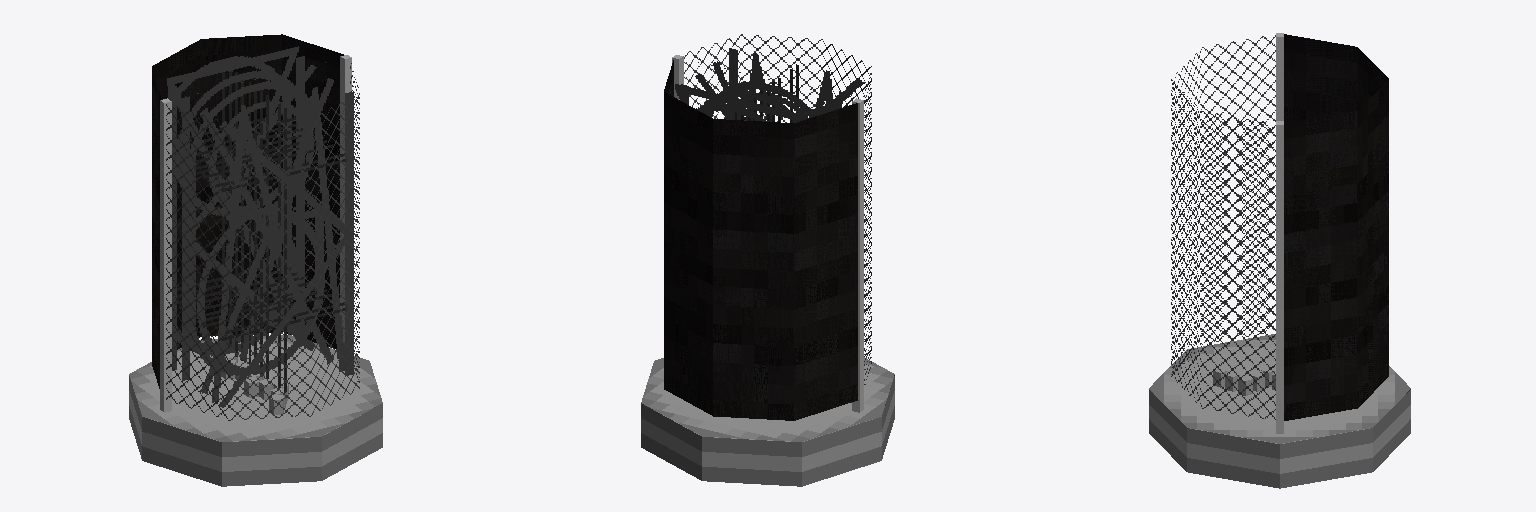
3 renders of one model, left to right at view 1: azimuth 30°, elevation 25°; view 2: azimuth 150°, elevation 25°; view 3: azimuth 270°, elevation 25°, orthographic.
Parts seen in each view (by area): view 1: Cylinder002, Front, Back, Back001, Plane010, Plane011, Plane014, Plane004, Plane013, Box002, Plane007, Plane005 (+4 smaller); view 2: Back, Back001, Cylinder002, Front, Box002, Plane008, Plane011, Plane004, Plane010, Plane006; view 3: Back, Cylinder002, Back001, Front, Box001, Box002.
Part boxes in pixels (bbox=[...]): Cylinder002: bbox=[129, 335, 382, 486]; Front: bbox=[166, 63, 359, 420]; Back: bbox=[152, 34, 342, 388]; Back001: bbox=[152, 34, 343, 386]; Plane010: bbox=[219, 91, 353, 407]; Plane011: bbox=[212, 87, 344, 402]; Plane014: bbox=[197, 90, 326, 374]; Plane004: bbox=[185, 62, 325, 375]; Plane013: bbox=[200, 78, 333, 393]; Box002: bbox=[160, 98, 171, 412]; Plane007: bbox=[168, 56, 304, 370]; Plane005: bbox=[182, 65, 316, 380]; Back: bbox=[664, 60, 857, 420]; Back001: bbox=[664, 67, 857, 420]; Cylinder002: bbox=[641, 357, 894, 486]; Front: bbox=[684, 34, 871, 384]; Box002: bbox=[852, 98, 863, 412]; Plane008: bbox=[675, 84, 806, 120]; Plane011: bbox=[746, 53, 832, 122]; Plane004: bbox=[698, 62, 838, 121]; Plane010: bbox=[729, 48, 864, 361]; Plane006: bbox=[702, 89, 799, 122]; Back: bbox=[1284, 34, 1388, 420]; Cylinder002: bbox=[1149, 334, 1410, 488]; Back001: bbox=[1284, 35, 1388, 419]; Front: bbox=[1171, 35, 1275, 419]; Box001: bbox=[1276, 121, 1283, 433]; Box002: bbox=[1276, 33, 1283, 120].
Bounding box in the file's own units: 2.56 × 3.81 × 2.56.
1 materials, 1 textured.